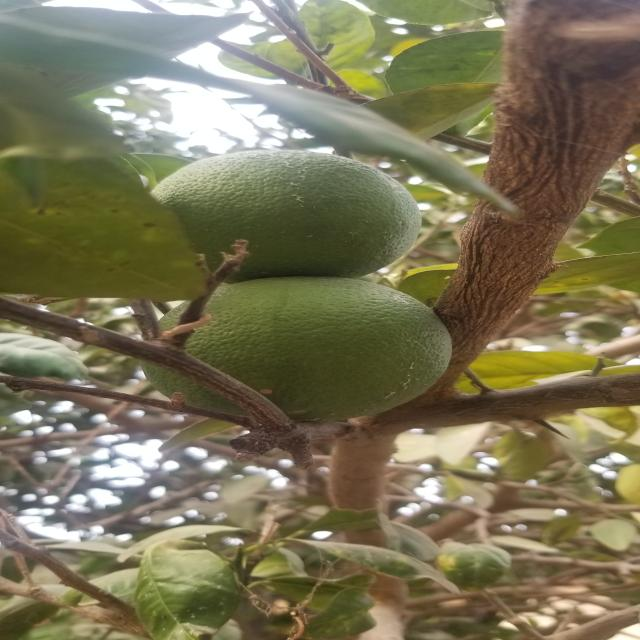Unripe: (163, 274, 454, 432), (160, 154, 424, 275)
